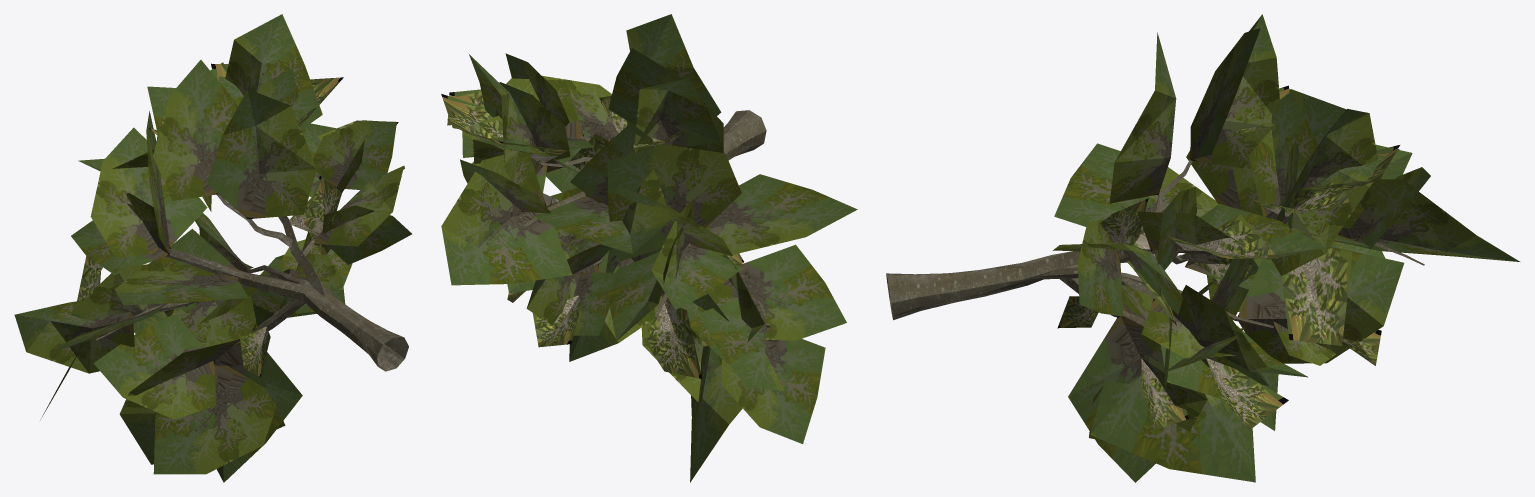
The model's file is House57.fbx.
3 renders of one model, left to right at view 1: azimuth 30°, elevation 25°; view 2: azimuth 150°, elevation 25°; view 3: azimuth 270°, elevation 25°, orthographic. The views are drawn at different scales.
Visible parts, largest first — view 1: AT_BGAgo_TrH01B.mo; view 2: AT_BGAgo_TrH01B.mo; view 3: AT_BGAgo_TrH01B.mo.
Part boxes in pixels (left/top/right/bottom): AT_BGAgo_TrH01B.mo: left=14, top=14, right=411, bottom=482; AT_BGAgo_TrH01B.mo: left=441, top=14, right=857, bottom=482; AT_BGAgo_TrH01B.mo: left=886, top=14, right=1519, bottom=482.
Bounding box in the file's own units: 3724 × 3909 × 4628.
